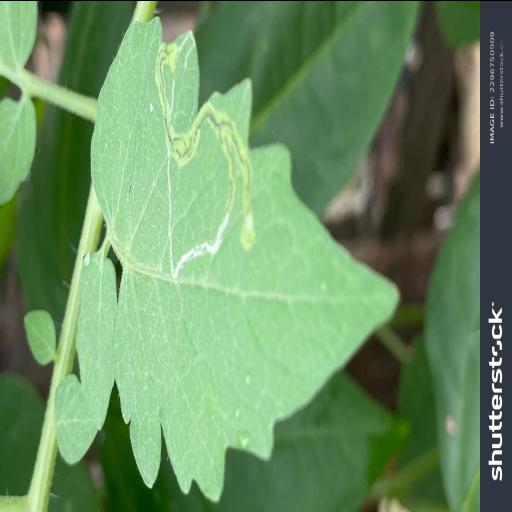Leaf Miner: (90, 0, 404, 512)
